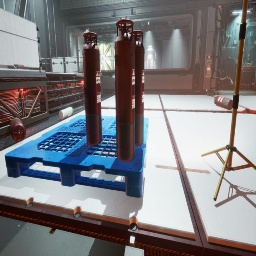0: (59, 107, 75, 120), (28, 70, 29, 70)
NitrogenTank ,: (114, 19, 136, 162), (82, 32, 102, 146), (129, 30, 145, 146), (10, 117, 26, 142), (214, 96, 233, 110), (115, 54, 116, 132)
SafetySwitchPanel ,: (205, 59, 212, 78)
